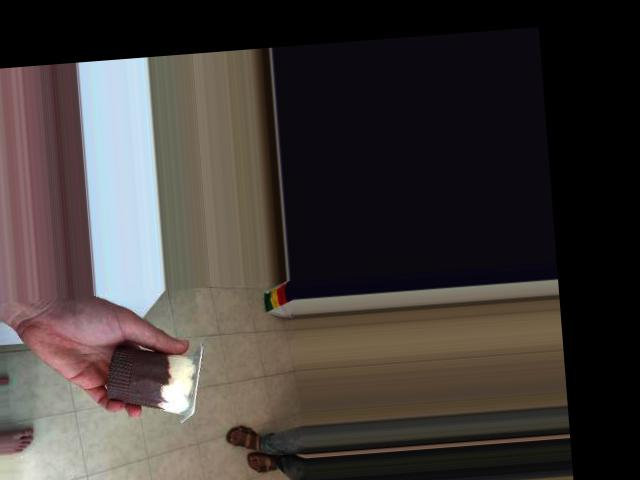milky: (94, 345, 219, 413)
